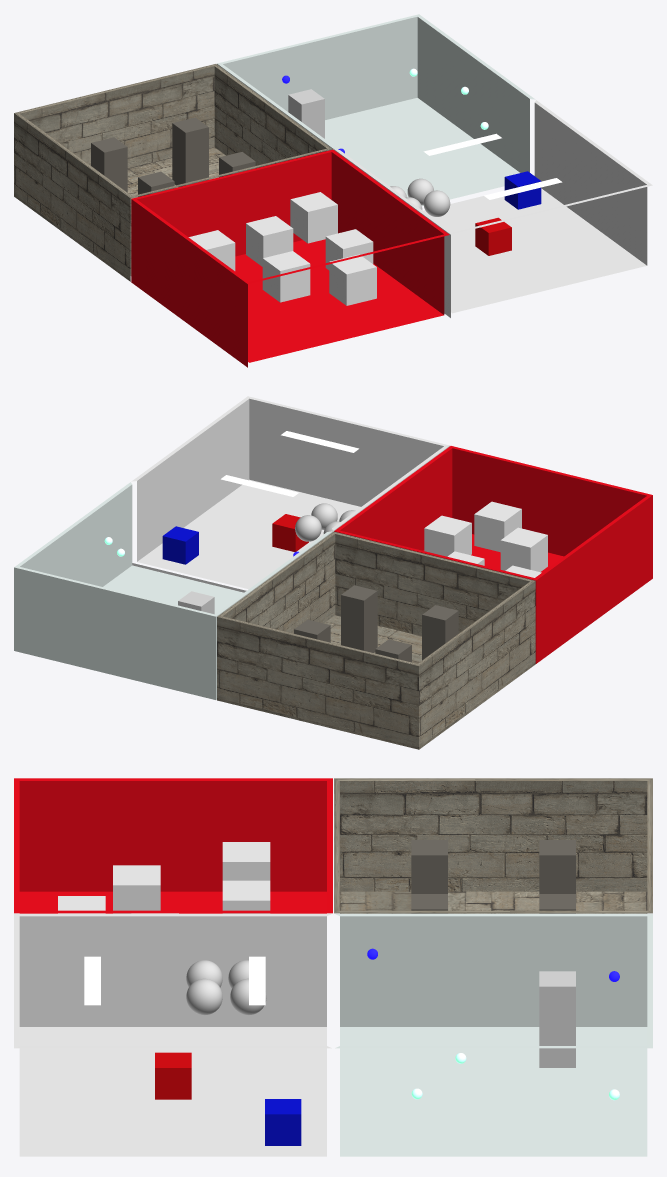
The picture shows the model from 3 angles, top to bottom: view 1: azimuth 30°, elevation 25°; view 2: azimuth 150°, elevation 25°; view 3: azimuth 270°, elevation 25°; orthographic projection. The views are drawn at different scales.
Parts seen in each view (by area): view 1: floor.003, floor.001, floor.002, floor, red cube.003, blue cube.004, blue cube.006, blue cube.001, blue cube.002, red cube.001, blue cube.003, red cube.005 (+6 smaller); view 2: floor.002, floor, floor.003, floor.001, red cube.004, blue cube.004, blue cube.006, blue cube.003, red cube.002, blue cube, red cube, Debug (+3 smaller); view 3: floor.001, floor, floor.002, floor.003, red cube.005, blue cube.004, red cube.001, red cube.002, blue cube.005, red cube, blue cube, blue cube.002 (+8 smaller).
Part boxes in pixels (x1,y1,x2,y2): floor.003: [131, 149, 449, 367]; floor.001: [217, 14, 535, 206]; floor.002: [14, 64, 332, 281]; floor: [334, 100, 652, 317]; red cube.003: [172, 117, 208, 186]; blue cube.004: [262, 251, 310, 302]; blue cube.006: [329, 254, 376, 305]; blue cube.001: [290, 192, 337, 243]; blue cube.002: [246, 216, 293, 266]; red cube.001: [91, 137, 127, 192]; blue cube.003: [325, 229, 373, 270]; red cube.005: [288, 89, 324, 138]; floor.002: [217, 531, 535, 749]; floor: [131, 396, 449, 592]; floor.003: [334, 446, 652, 663]; floor.001: [14, 482, 332, 699]; red cube.004: [341, 585, 377, 652]; blue cube.004: [500, 527, 547, 571]; blue cube.006: [474, 501, 521, 552]; blue cube.003: [424, 515, 471, 556]; red cube.002: [422, 605, 458, 660]; blue cube: [162, 526, 198, 564]; red cube: [272, 514, 308, 551]; Debug: [295, 515, 321, 541]; floor.001: [334, 913, 652, 1156]; floor: [14, 913, 332, 1156]; floor.002: [334, 778, 652, 913]; floor.003: [14, 778, 332, 913]; red cube.005: [539, 971, 575, 1067]; blue cube.004: [113, 865, 160, 913]; red cube.001: [539, 840, 575, 893]; red cube.002: [411, 840, 447, 893]; blue cube.005: [222, 842, 270, 880]; red cube: [155, 1052, 191, 1099]; blue cube: [265, 1099, 301, 1145]; blue cube.002: [222, 880, 270, 913].
Bounding box in the file's own units: 34.93 × 6.88 × 34.93.
16 materials, 1 textured.
